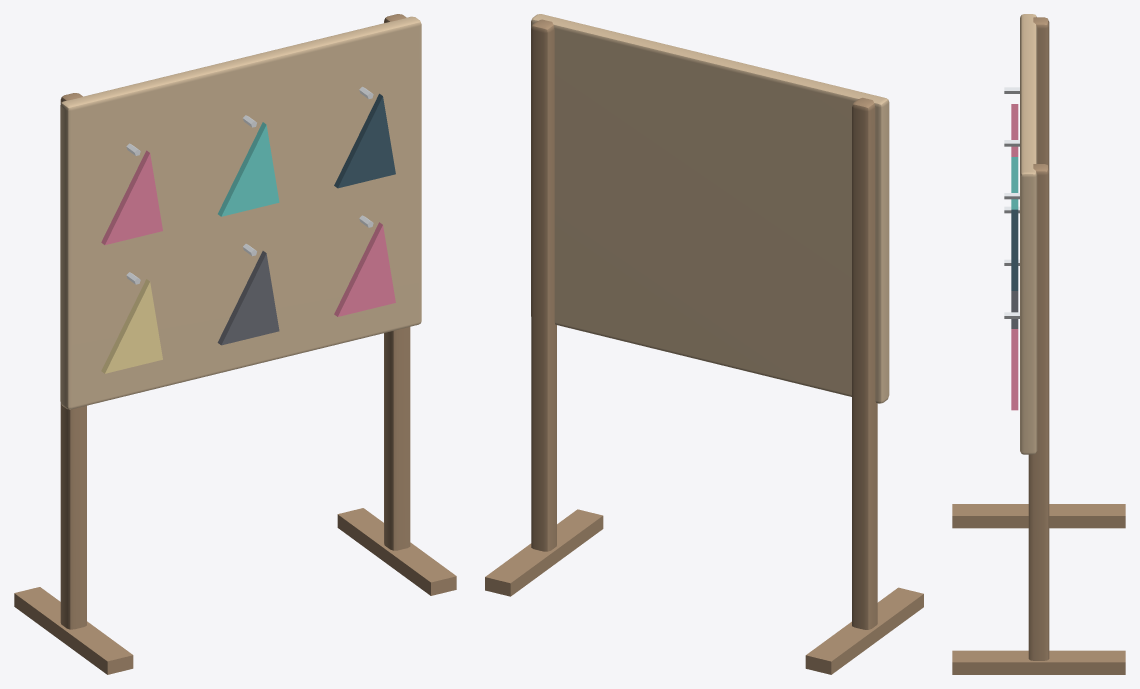
The model's file is FinWall.fbx.
3 renders of one model, left to right at view 1: azimuth 30°, elevation 25°; view 2: azimuth 150°, elevation 25°; view 3: azimuth 270°, elevation 25°, orthographic. The views are drawn at different scales.
Visible parts, largest first — view 1: FinWall; view 2: FinWall; view 3: FinWall.
Boxes of the visible parts, left/top/right/bottom form: FinWall: left=14, top=14, right=456, bottom=674; FinWall: left=485, top=14, right=923, bottom=674; FinWall: left=952, top=14, right=1125, bottom=674.
Size of the model in its own units: 1.1 by 1.6 by 0.5.
